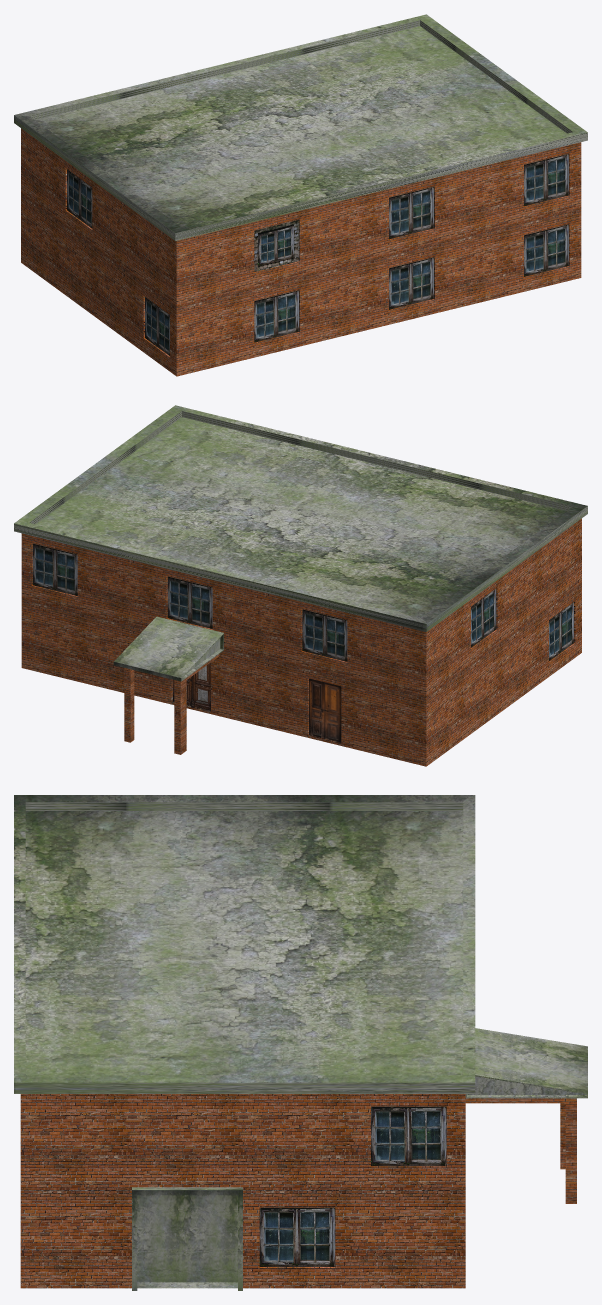
File: house.fbx
The picture shows the model from 3 angles, top to bottom: view 1: azimuth 30°, elevation 25°; view 2: azimuth 150°, elevation 25°; view 3: azimuth 270°, elevation 25°; orthographic projection. The views are drawn at different scales.
Parts seen in each view (by area): view 1: Plane.002, Cube; view 2: Plane.002, Cube; view 3: Cube, Plane.002.
Boxes of the visible parts, x1,y1,x2,y2 form: Plane.002: [21, 128, 581, 376]; Cube: [14, 14, 587, 240]; Plane.002: [21, 518, 581, 766]; Cube: [14, 405, 587, 631]; Cube: [14, 795, 475, 1093]; Plane.002: [20, 1028, 587, 1290].
Size of the model in its own units: 1224 by 443 by 1032.
58 materials, 58 textured.
